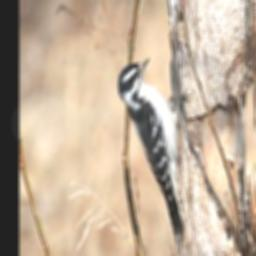Woodpecker: (117, 57, 193, 247)
